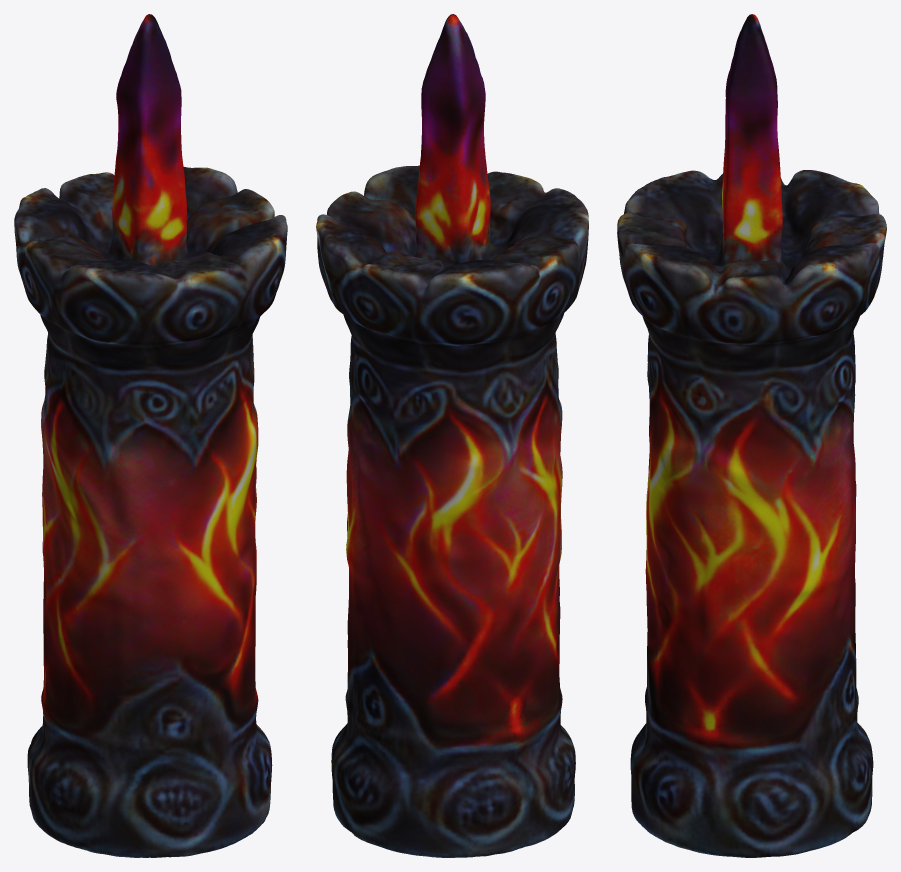
The model's file is c08aef01cbe4_hellfire_essence_mi.fbx.
3 views of the same model, side by side, from view 1: azimuth 30°, elevation 25°; view 2: azimuth 150°, elevation 25°; view 3: azimuth 270°, elevation 25° (orthographic).
Visible parts, largest first — view 1: high_poly; view 2: high_poly; view 3: high_poly.
Boxes of the visible parts, bbox=[...] form: high_poly: bbox=[14, 14, 287, 857]; high_poly: bbox=[316, 14, 588, 857]; high_poly: bbox=[617, 14, 886, 857].
Bounding box in the file's own units: 30.43 × 100 × 30.7.
